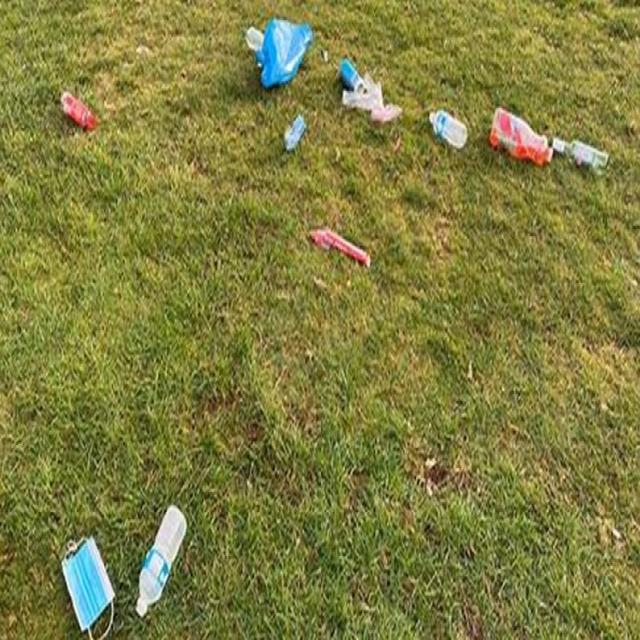metal: (133, 226, 490, 324), (336, 56, 368, 103)
paper: (150, 296, 391, 406)
plastic: (133, 503, 191, 620), (422, 94, 481, 160), (57, 82, 103, 140)
